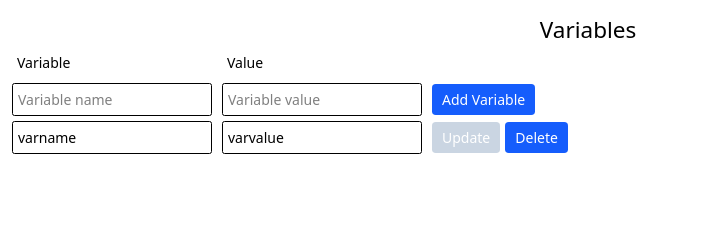
it: VariablesSection › prevents adding duplicate variable keys
In the field with placeholder "Variable name": (112, 100) [12,83,212,116], type "apiKey"
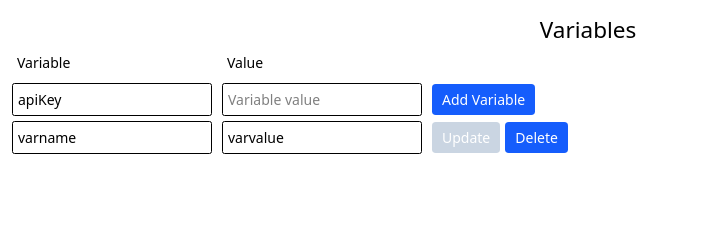
In the field with placeholder "Variable value": (322, 100) [222,83,422,116], type "123"
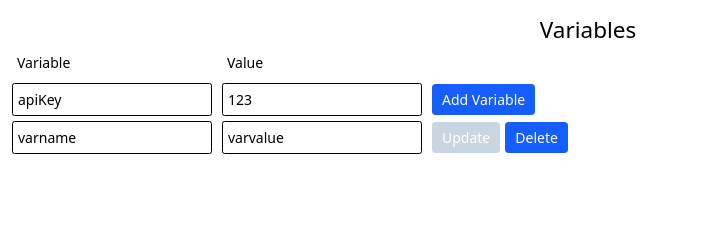
Click the button "Add Variable": (484, 100) [432,84,535,115]
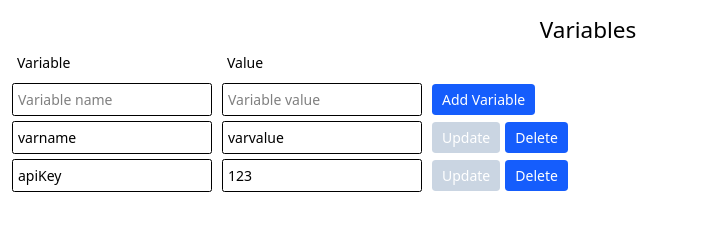
In the field with placeholder "Variable name": (112, 100) [12,83,212,116], type "apiKey"
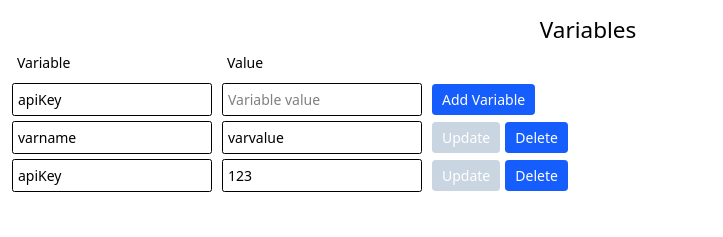
In the field with placeholder "Variable value": (322, 100) [222,83,422,116], type "456"
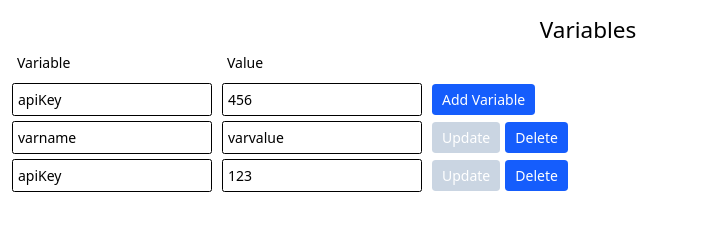
Click the button "Add Variable": (484, 100) [432,84,535,115]
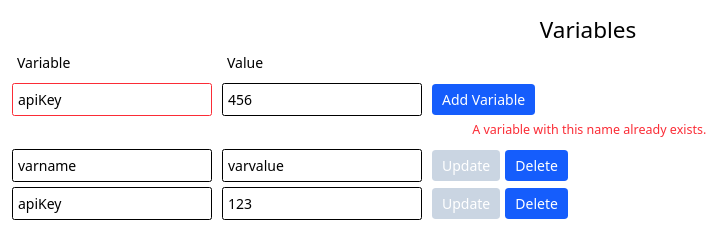
Now the text "A variable with this name already exists." is shown, box [472,121,706,138]
